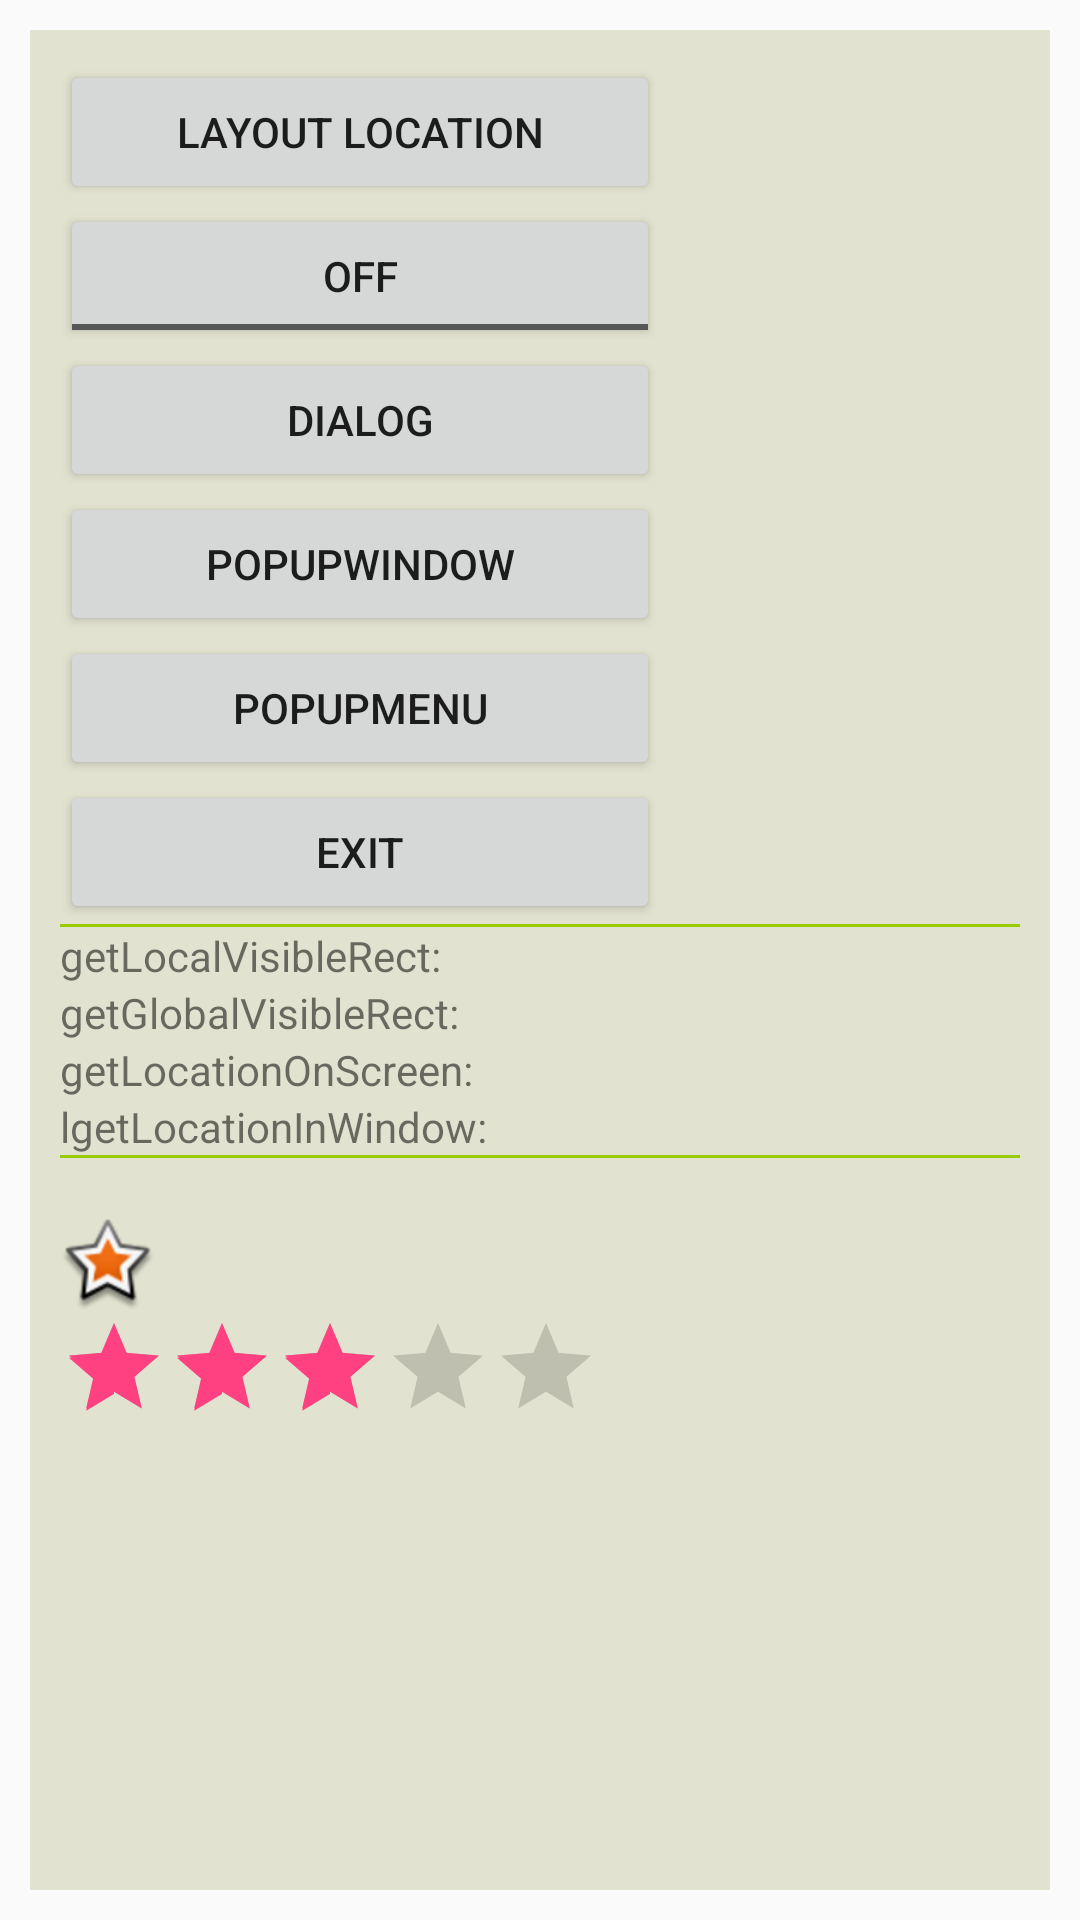

Where icons sit on this 1080×1920 app screen, as (x1, y1, x2, y2):
star on: (65, 1219, 150, 1306)
